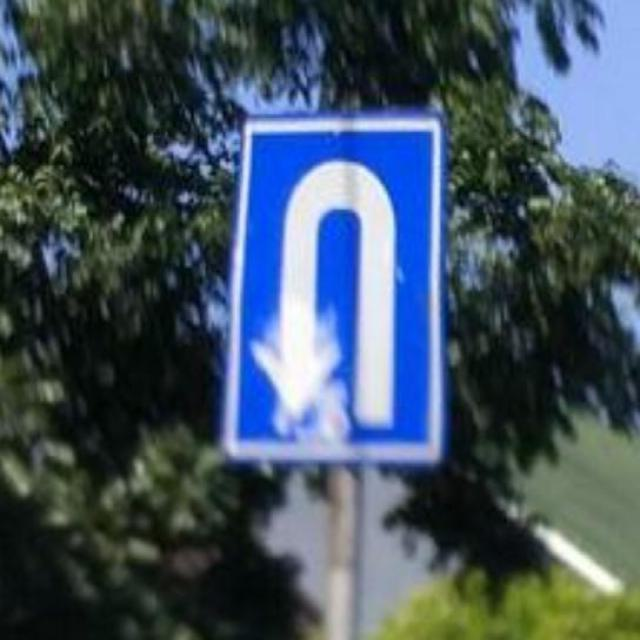U-turn: (245, 120, 432, 455)
